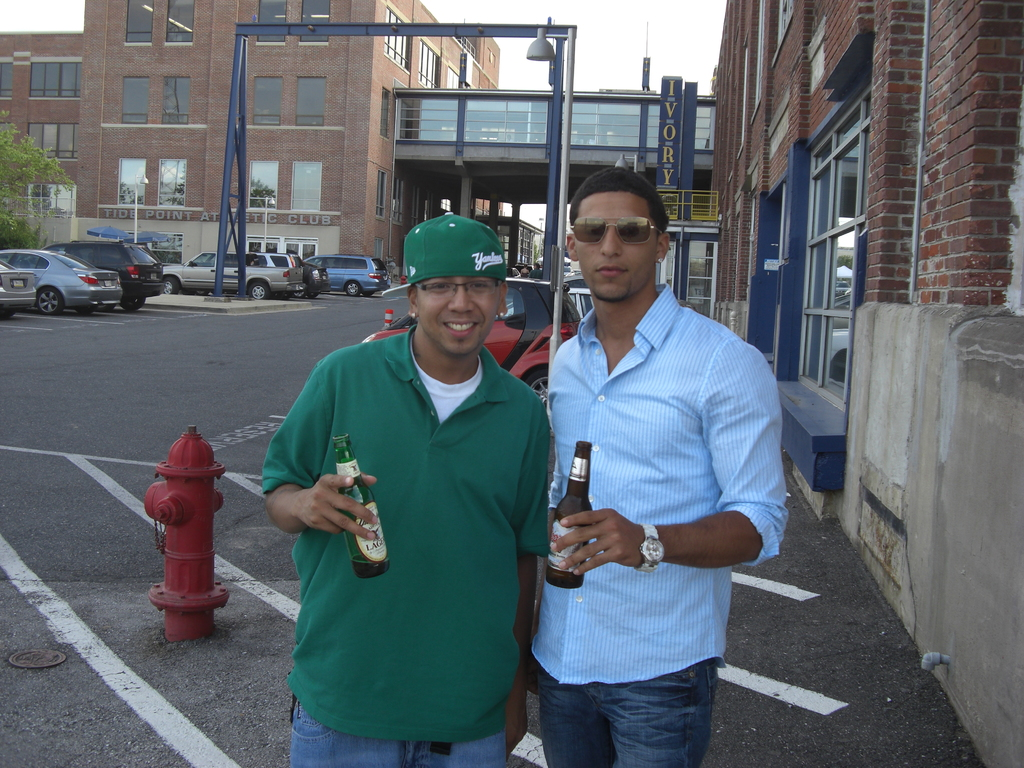Car: (5, 246, 122, 309), (165, 245, 298, 300), (56, 242, 167, 307), (297, 257, 391, 295), (0, 254, 34, 313)
